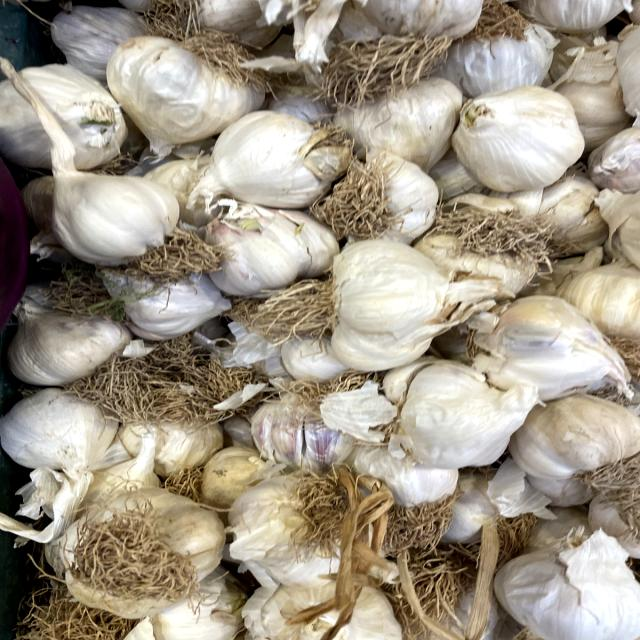garlic: (280, 226, 511, 340), (38, 147, 214, 285), (384, 349, 536, 477)
